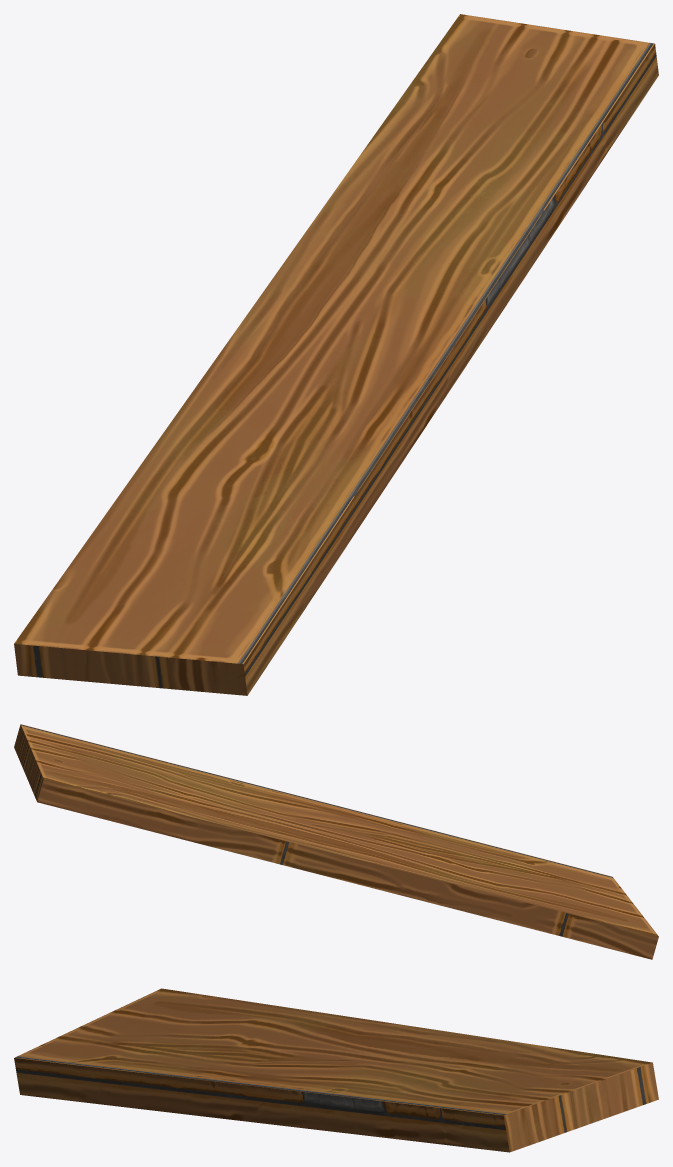
3 renders of one model, top to bottom at view 1: azimuth 30°, elevation 25°; view 2: azimuth 150°, elevation 25°; view 3: azimuth 270°, elevation 25°, orthographic. The views are drawn at different scales.
Parts seen in each view (by area): view 1: Cube.671; view 2: Cube.671; view 3: Cube.671.
Part boxes in pixels (x1,y1,x2,y2): Cube.671: (14, 14, 658, 695); Cube.671: (14, 724, 658, 959); Cube.671: (14, 988, 658, 1152).
Size of the model in its own units: 309 by 108 by 221.
1 material, 1 textured.
